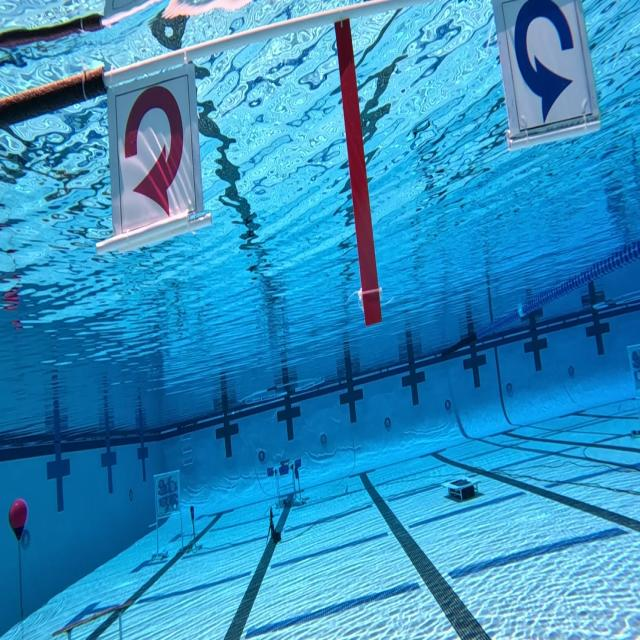blue_side: (492, 0, 606, 140)
red_side: (100, 76, 206, 242)
